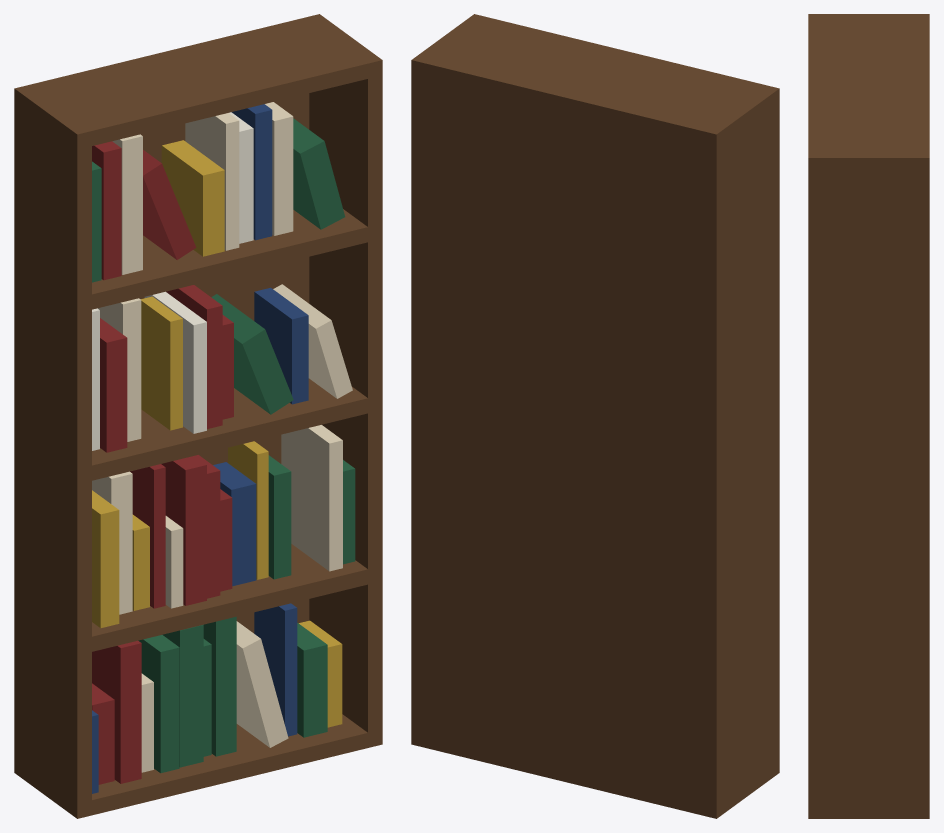
Rendered from GH_Bookcase_02.glb.
The picture shows the model from 3 angles, left to right: view 1: azimuth 30°, elevation 25°; view 2: azimuth 150°, elevation 25°; view 3: azimuth 270°, elevation 25°; orthographic projection. The views are drawn at different scales.
Parts seen in each view (by area): view 1: GH_Bookcase_02; view 2: GH_Bookcase_02; view 3: GH_Bookcase_02.
Part boxes in pixels (x1,y1,x2,y2): GH_Bookcase_02: (14, 14, 382, 818); GH_Bookcase_02: (411, 14, 779, 818); GH_Bookcase_02: (808, 14, 929, 818).
Size of the model in its own units: 0.84 by 1.8 by 0.3.
1 material, 1 textured.
